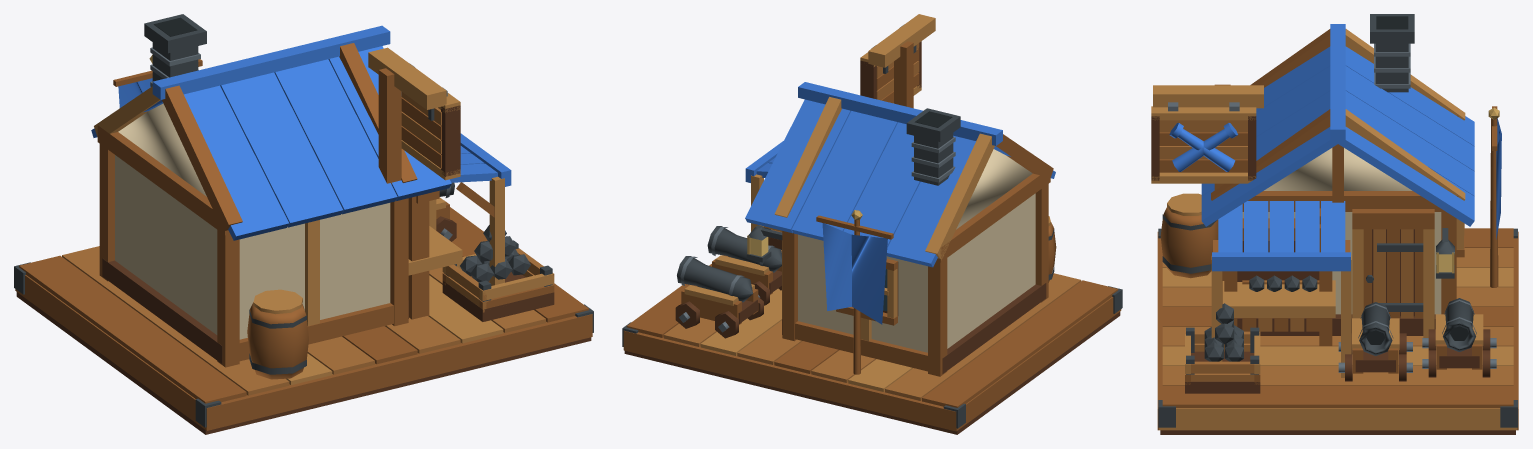
3 views of the same model, side by side, from view 1: azimuth 30°, elevation 25°; view 2: azimuth 150°, elevation 25°; view 3: azimuth 270°, elevation 25° (orthographic). The views are drawn at different scales.
Visible parts, largest first — view 1: house-plaster, base-side-rail-0.75, team-roof-panel-1-1, team-roof-panel-1-2, deck-plank-0, team-roof-panel-1-0, roof-ridge-cap, base-back-rail, gable-trim-right--0.626, powder-barrel, deck-plank-1, house-eave-beam--0.626 (+36 smaller); view 2: house-plaster, base-side-rail--0.75, deck-plank-0, team-roof-panel--1-2, team-roof-panel--1-3, team-roof-panel--1-1, team-roof-panel--1-0, base-back-rail, team-banner-left, roof-ridge-cap, deck-plank-1, gable-trim-left--0.626 (+32 smaller); view 3: deck-plank-8, base-front-rail, deck-plank-7, team-roof-panel--1-1, counter-sill, team-roof-panel--1-3, plaster-gable, team-roof-panel-1-3, team-roof-panel--1-2, deck-plank-6, awning-front-fascia, powder-barrel (+68 smaller).
Boxes of the visible parts, <box> form: house-plaster: <box>115,155,390,339</box>; base-side-rail-0.75: <box>206,314,592,430</box>; team-roof-panel-1-1: <box>220,72,343,227</box>; team-roof-panel-1-2: <box>274,59,397,214</box>; deck-plank-0: <box>19,255,246,403</box>; team-roof-panel-1-0: <box>184,85,289,240</box>; roof-ridge-cap: <box>152,25,390,99</box>; base-back-rail: <box>16,275,206,429</box>; gable-trim-right--0.626: <box>162,85,242,232</box>; powder-barrel: <box>247,302,308,379</box>; deck-plank-1: <box>62,246,289,395</box>; house-eave-beam--0.626: <box>97,125,229,235</box>; house-plaster: <box>798,193,1035,352</box>; base-side-rail--0.75: <box>623,330,956,431</box>; deck-plank-0: <box>922,280,1118,407</box>; team-roof-panel--1-2: <box>791,111,897,240</box>; team-roof-panel--1-3: <box>745,99,851,233</box>; team-roof-panel--1-1: <box>843,122,920,247</box>; team-roof-panel--1-0: <box>886,135,975,267</box>; base-back-rail: <box>956,297,1120,430</box>; team-banner-left: <box>851,234,887,324</box>; roof-ridge-cap: <box>798,82,1002,145</box>; deck-plank-1: <box>885,273,1081,400</box>; gable-trim-left--0.626: <box>925,133,994,260</box>; deck-plank-8: <box>1162,385,1513,408</box>; base-front-rail: <box>1159,408,1517,430</box>; deck-plank-7: <box>1162,366,1513,385</box>; team-roof-panel--1-1: <box>1345,66,1474,171</box>; counter-sill: <box>1222,280,1335,317</box>; team-roof-panel--1-3: <box>1336,127,1474,226</box>; plaster-gable: <box>1264,148,1412,190</box>; team-roof-panel-1-3: <box>1201,127,1339,226</box>; team-roof-panel--1-2: <box>1345,91,1474,196</box>; deck-plank-6: <box>1162,346,1513,365</box>; awning-front-fascia: <box>1212,252,1350,271</box>; powder-barrel: <box>1160,207,1218,278</box>.
Size of the model in its own units: 1.79 by 1.3 by 1.56.
